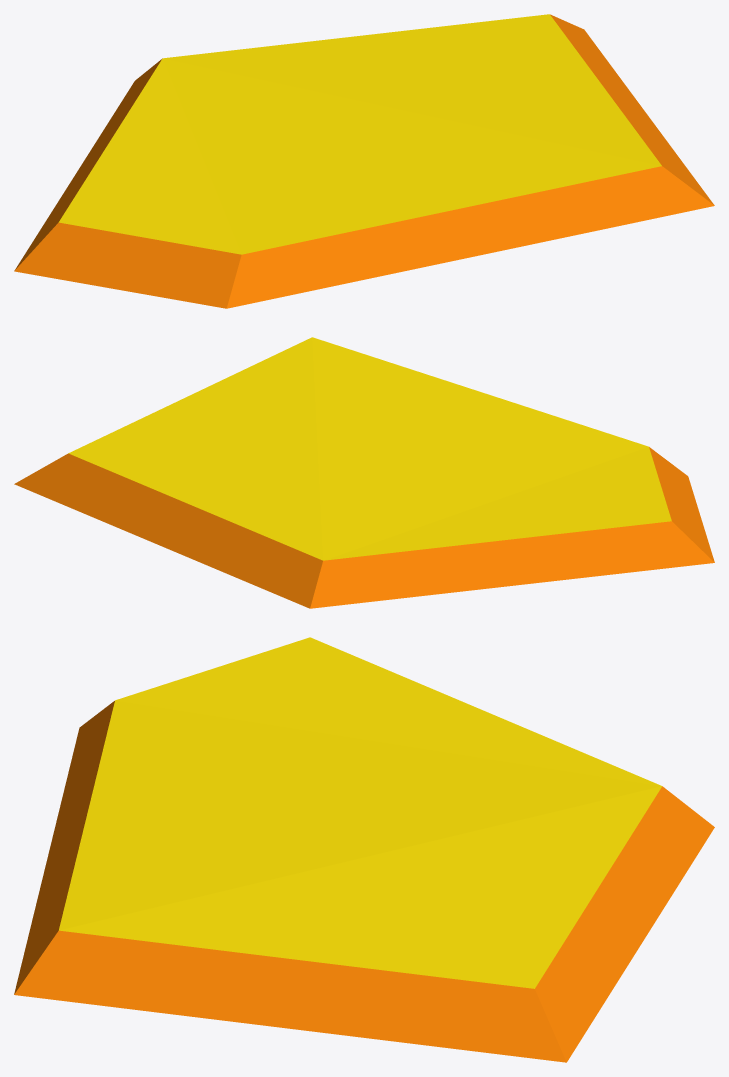
Rendered from RockFlat4.fbx.
The picture shows the model from 3 angles, top to bottom: view 1: azimuth 30°, elevation 25°; view 2: azimuth 150°, elevation 25°; view 3: azimuth 270°, elevation 25°; orthographic projection. The views are drawn at different scales.
Visible parts, largest first — view 1: RockFlat4; view 2: RockFlat4; view 3: RockFlat4.
Part boxes in pixels (box(x1,y1,x2,y2)): RockFlat4: box(14, 14, 714, 308); RockFlat4: box(14, 337, 714, 608); RockFlat4: box(14, 637, 714, 1062).
Bounding box in the file's own units: 3.35 × 2.43 × 0.2116.
